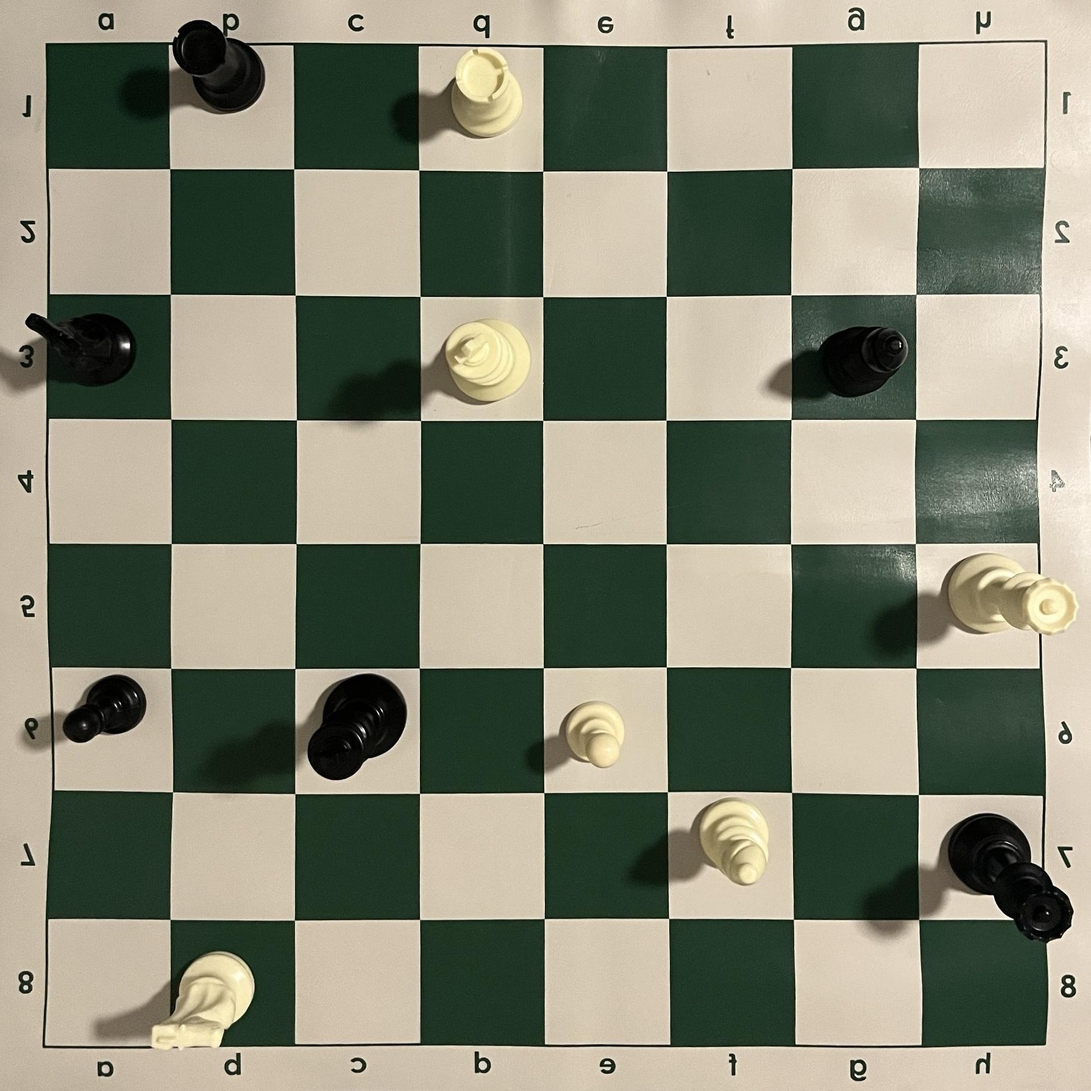black_bishop: (820, 325, 909, 398)
black_king: (307, 673, 407, 783)
black_knight: (24, 312, 137, 387)
black_pawn: (62, 673, 147, 745)
black_queen: (945, 811, 1075, 947)
black_rook: (171, 20, 265, 113)
white_bishop: (698, 797, 771, 889)
white_king: (444, 317, 531, 404)
white_knight: (149, 950, 256, 1052)
white_pawn: (563, 700, 626, 770)
white_queen: (947, 551, 1079, 638)
white_rook: (450, 46, 524, 138)
